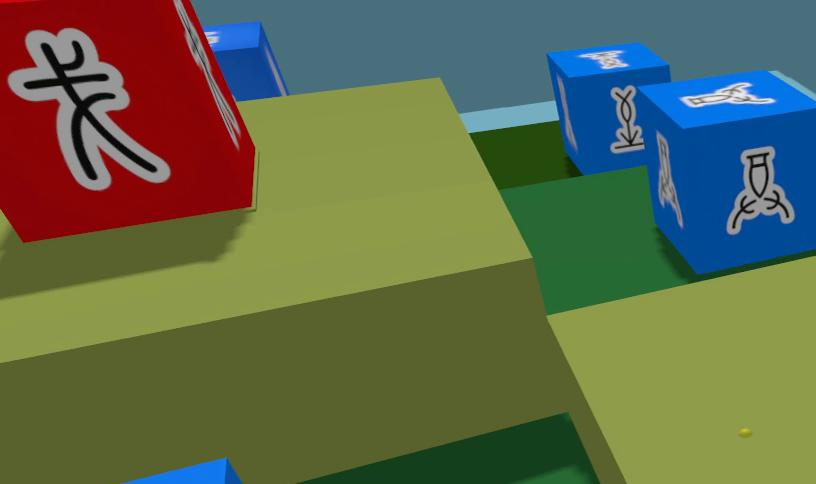KFS_FAKE: (0, 0, 256, 242), (7, 28, 170, 191)
KFS_REAL: (635, 71, 815, 273), (203, 21, 288, 101), (727, 147, 794, 234), (123, 459, 241, 483), (656, 133, 683, 227), (681, 82, 773, 107), (578, 50, 629, 69)
